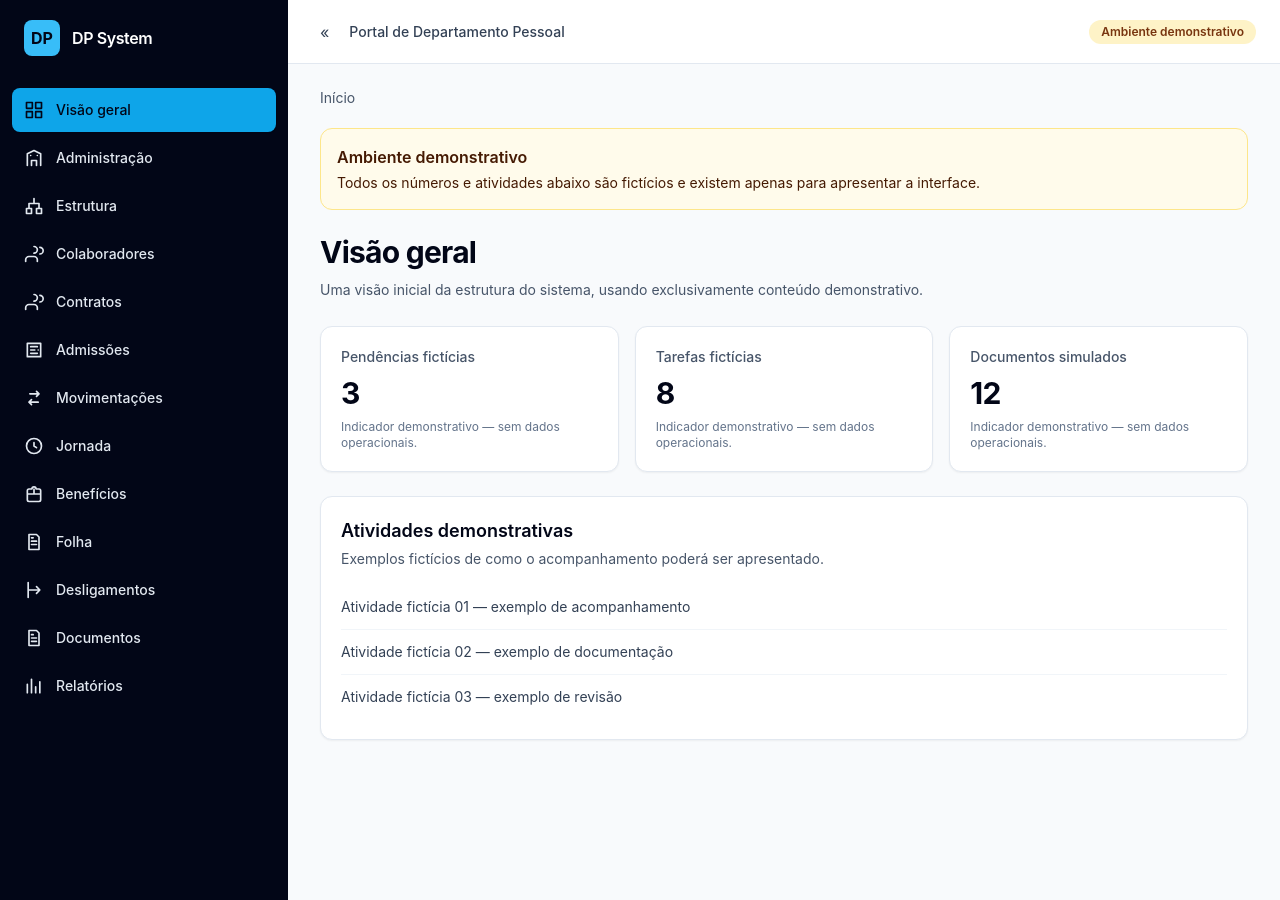
Test: application shell › recolhe a sidebar mantendo seus rótulos acessíveis
Click the button named "Recolher barra lateral".
click(325, 32)  # box [312,12,337,52]
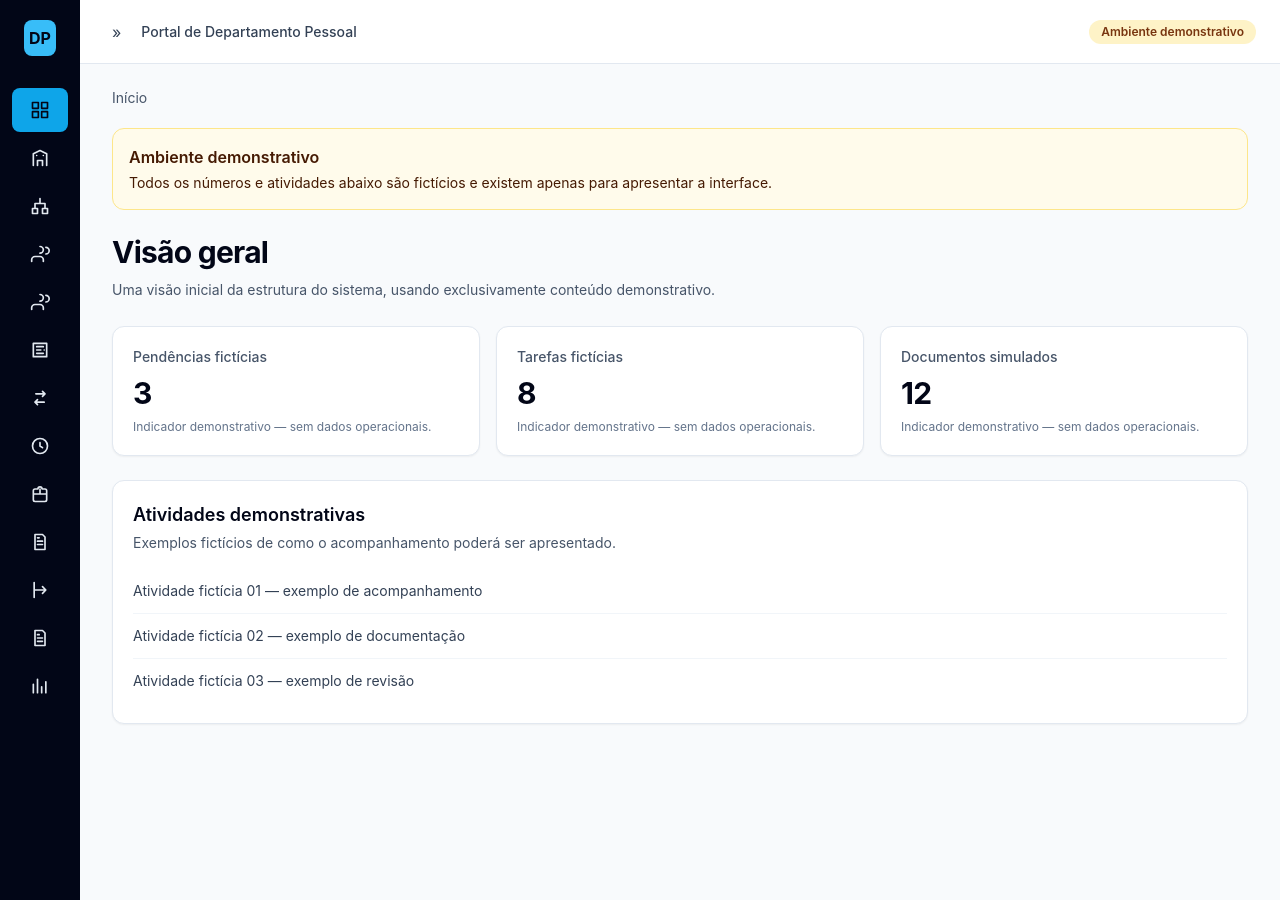
Expected: the button named "Expandir barra lateral" is collapsed, [104,12,129,52]
